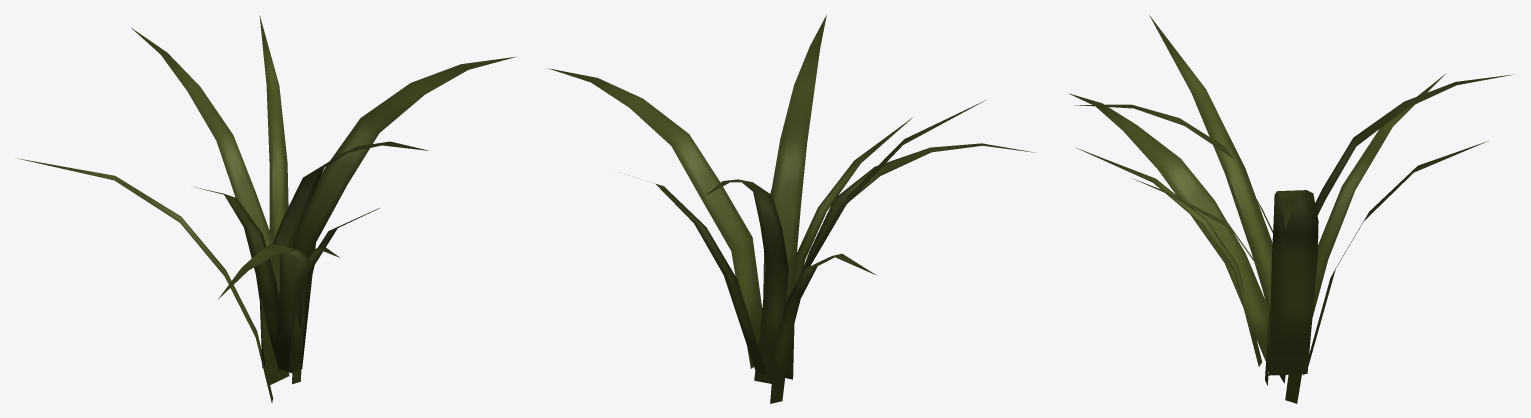
File: 001KusaL01.fbx
3 views of the same model, side by side, from view 1: azimuth 30°, elevation 25°; view 2: azimuth 150°, elevation 25°; view 3: azimuth 270°, elevation 25° (orthographic). The views are drawn at different scales.
Visible parts, largest first — view 1: KusaL01; view 2: KusaL01; view 3: KusaL01.
Part boxes in pixels (x1,y1,x2,y2): KusaL01: (17, 15, 516, 402); KusaL01: (548, 14, 1036, 403); KusaL01: (1068, 15, 1514, 403).
Bounding box in the file's own units: 105 × 74.49 × 93.85.
1 material, 1 textured.
